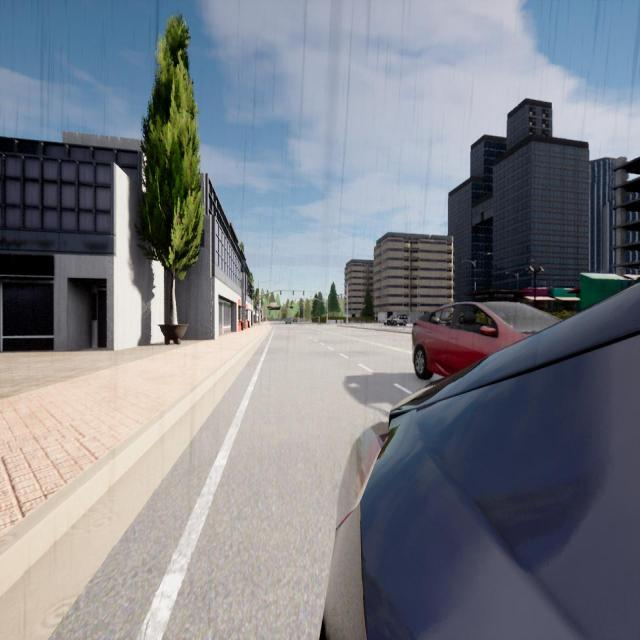Vehicle: (324, 283, 640, 638), (414, 302, 560, 378), (384, 315, 408, 326), (286, 318, 291, 324), (293, 318, 297, 322)
traffic_light: (280, 291, 282, 295), (326, 312, 328, 314), (293, 291, 294, 295), (303, 291, 304, 295), (338, 295, 339, 299), (341, 294, 342, 298)
